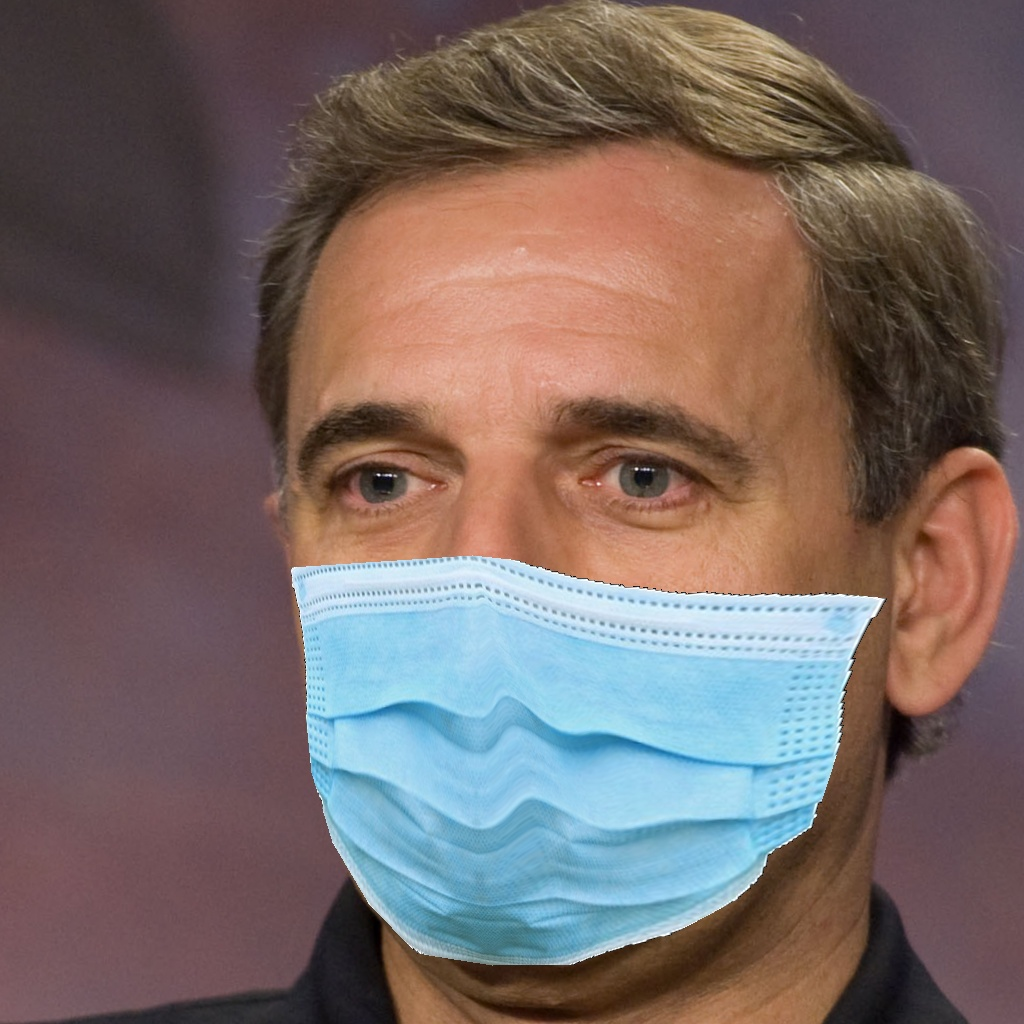Mask: (283, 362, 896, 968)
